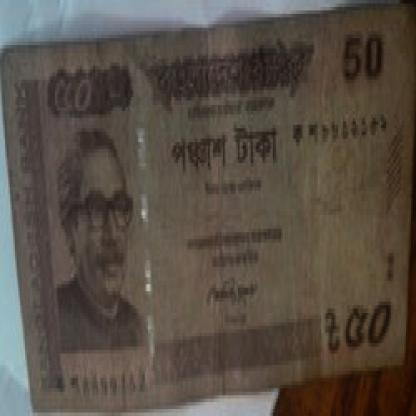Fifty taka: (321, 295, 398, 371), (40, 69, 101, 125)
